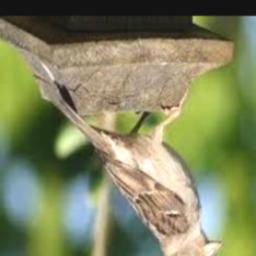Sparrow: (60, 96, 221, 256)
